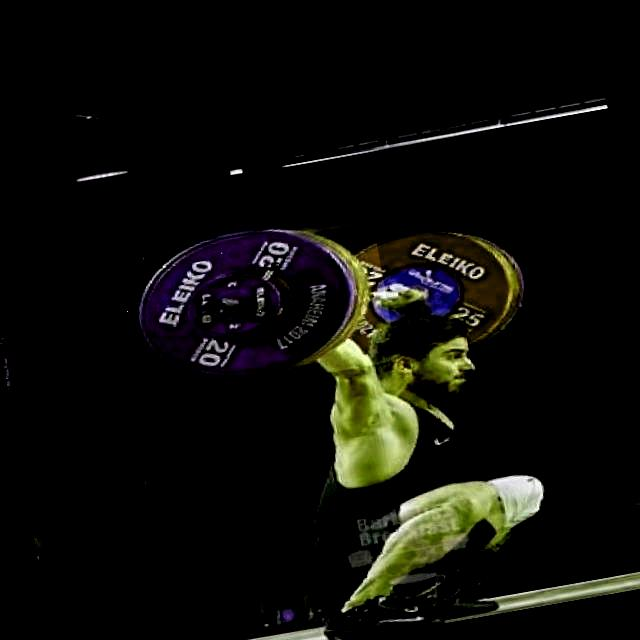barbell: (115, 197, 397, 405)
